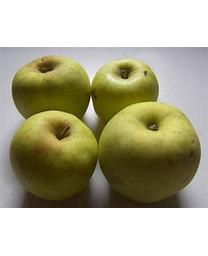apple: (97, 101, 200, 202), (8, 110, 97, 200), (10, 54, 91, 119), (90, 57, 158, 121)
